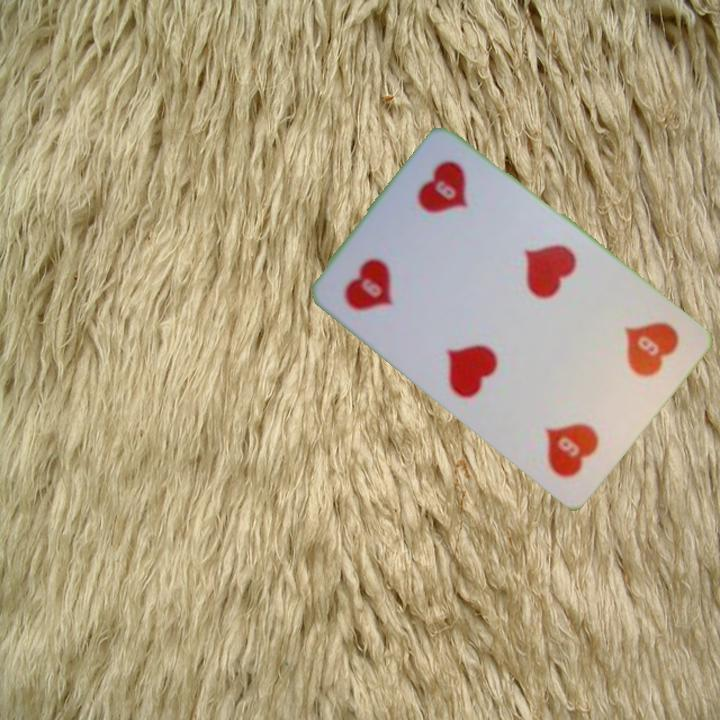h_6.png: (566, 288, 694, 418), (324, 213, 451, 342)
